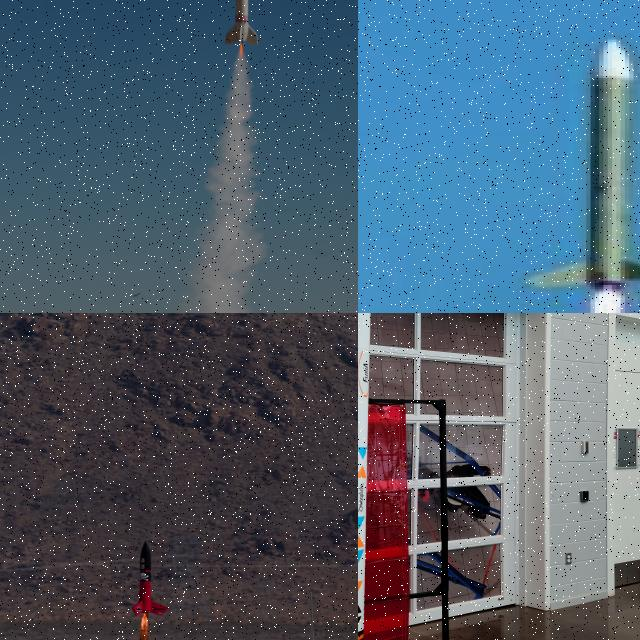Rocket: (516, 36, 640, 298), (131, 540, 169, 616), (223, 0, 260, 47)
